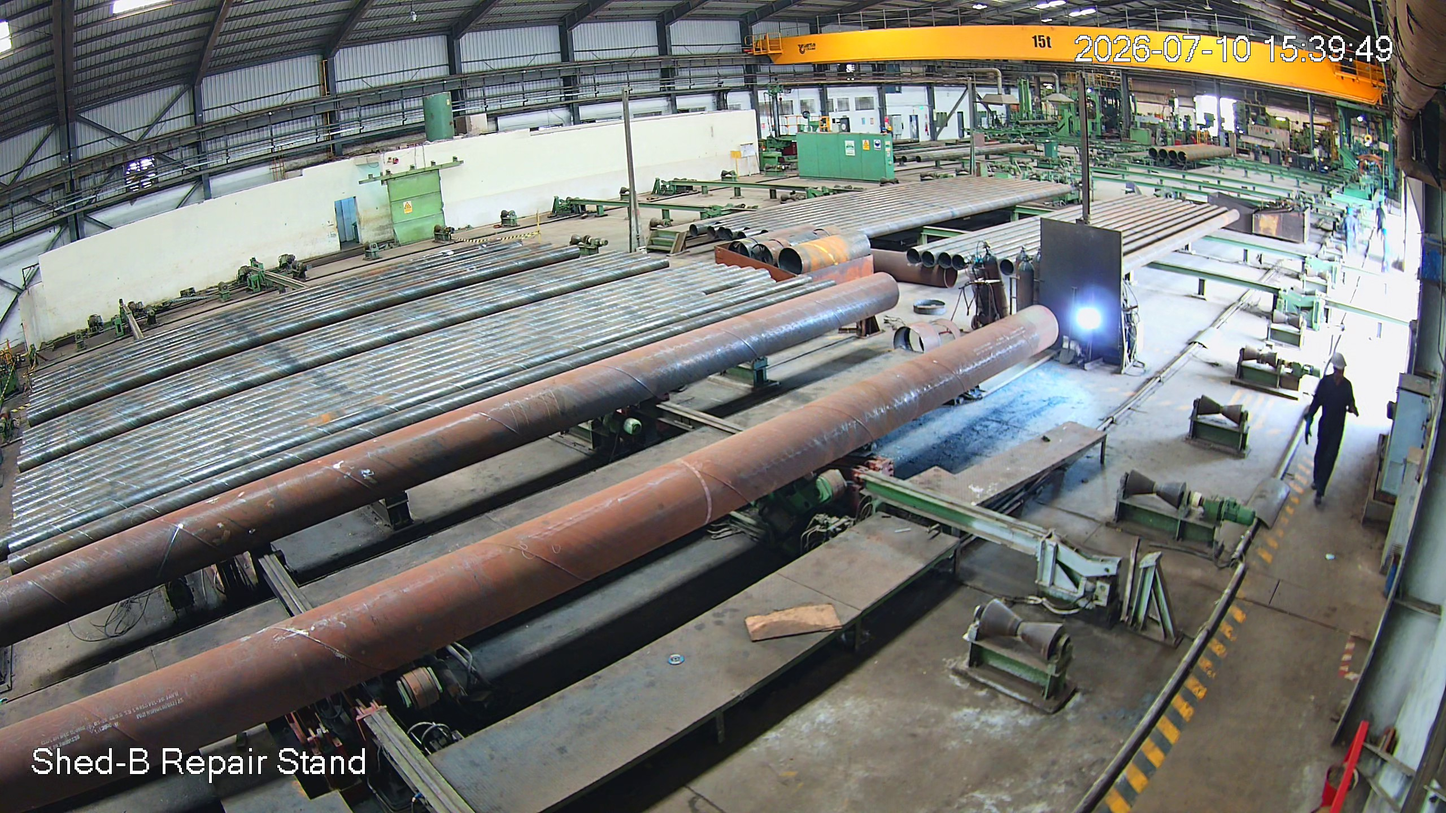Helmet: (1325, 346, 1358, 391)
Person: (1301, 352, 1364, 509)
